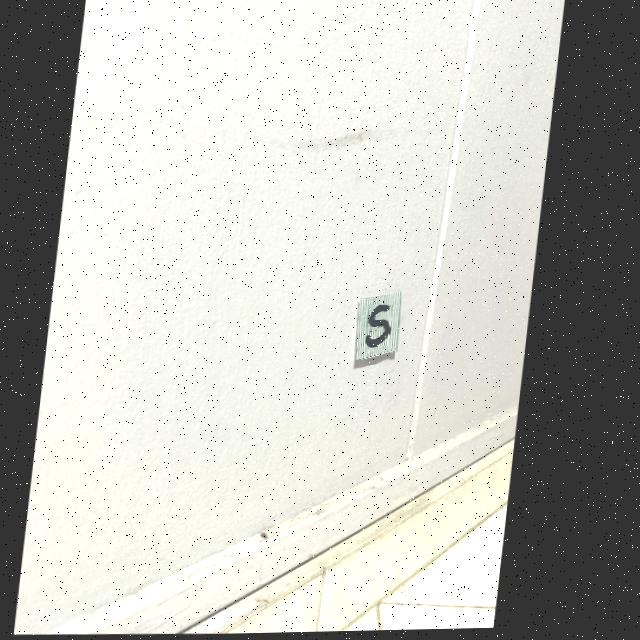S: (372, 307, 396, 347)
